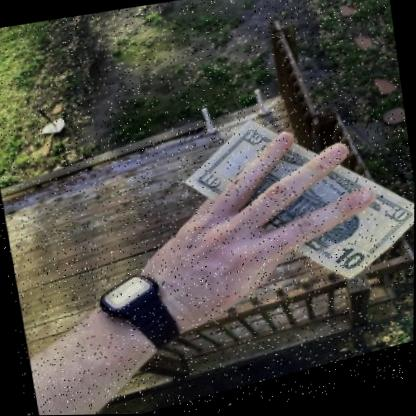ten-back: (181, 126, 415, 288)
